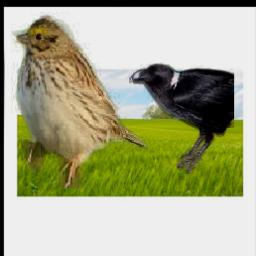Crow: (129, 64, 234, 176)
Sparrow: (9, 12, 148, 189)
